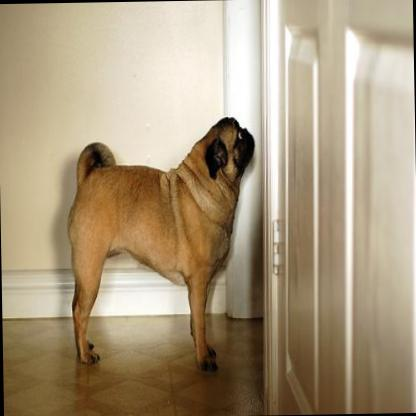pug: (64, 115, 258, 373)
